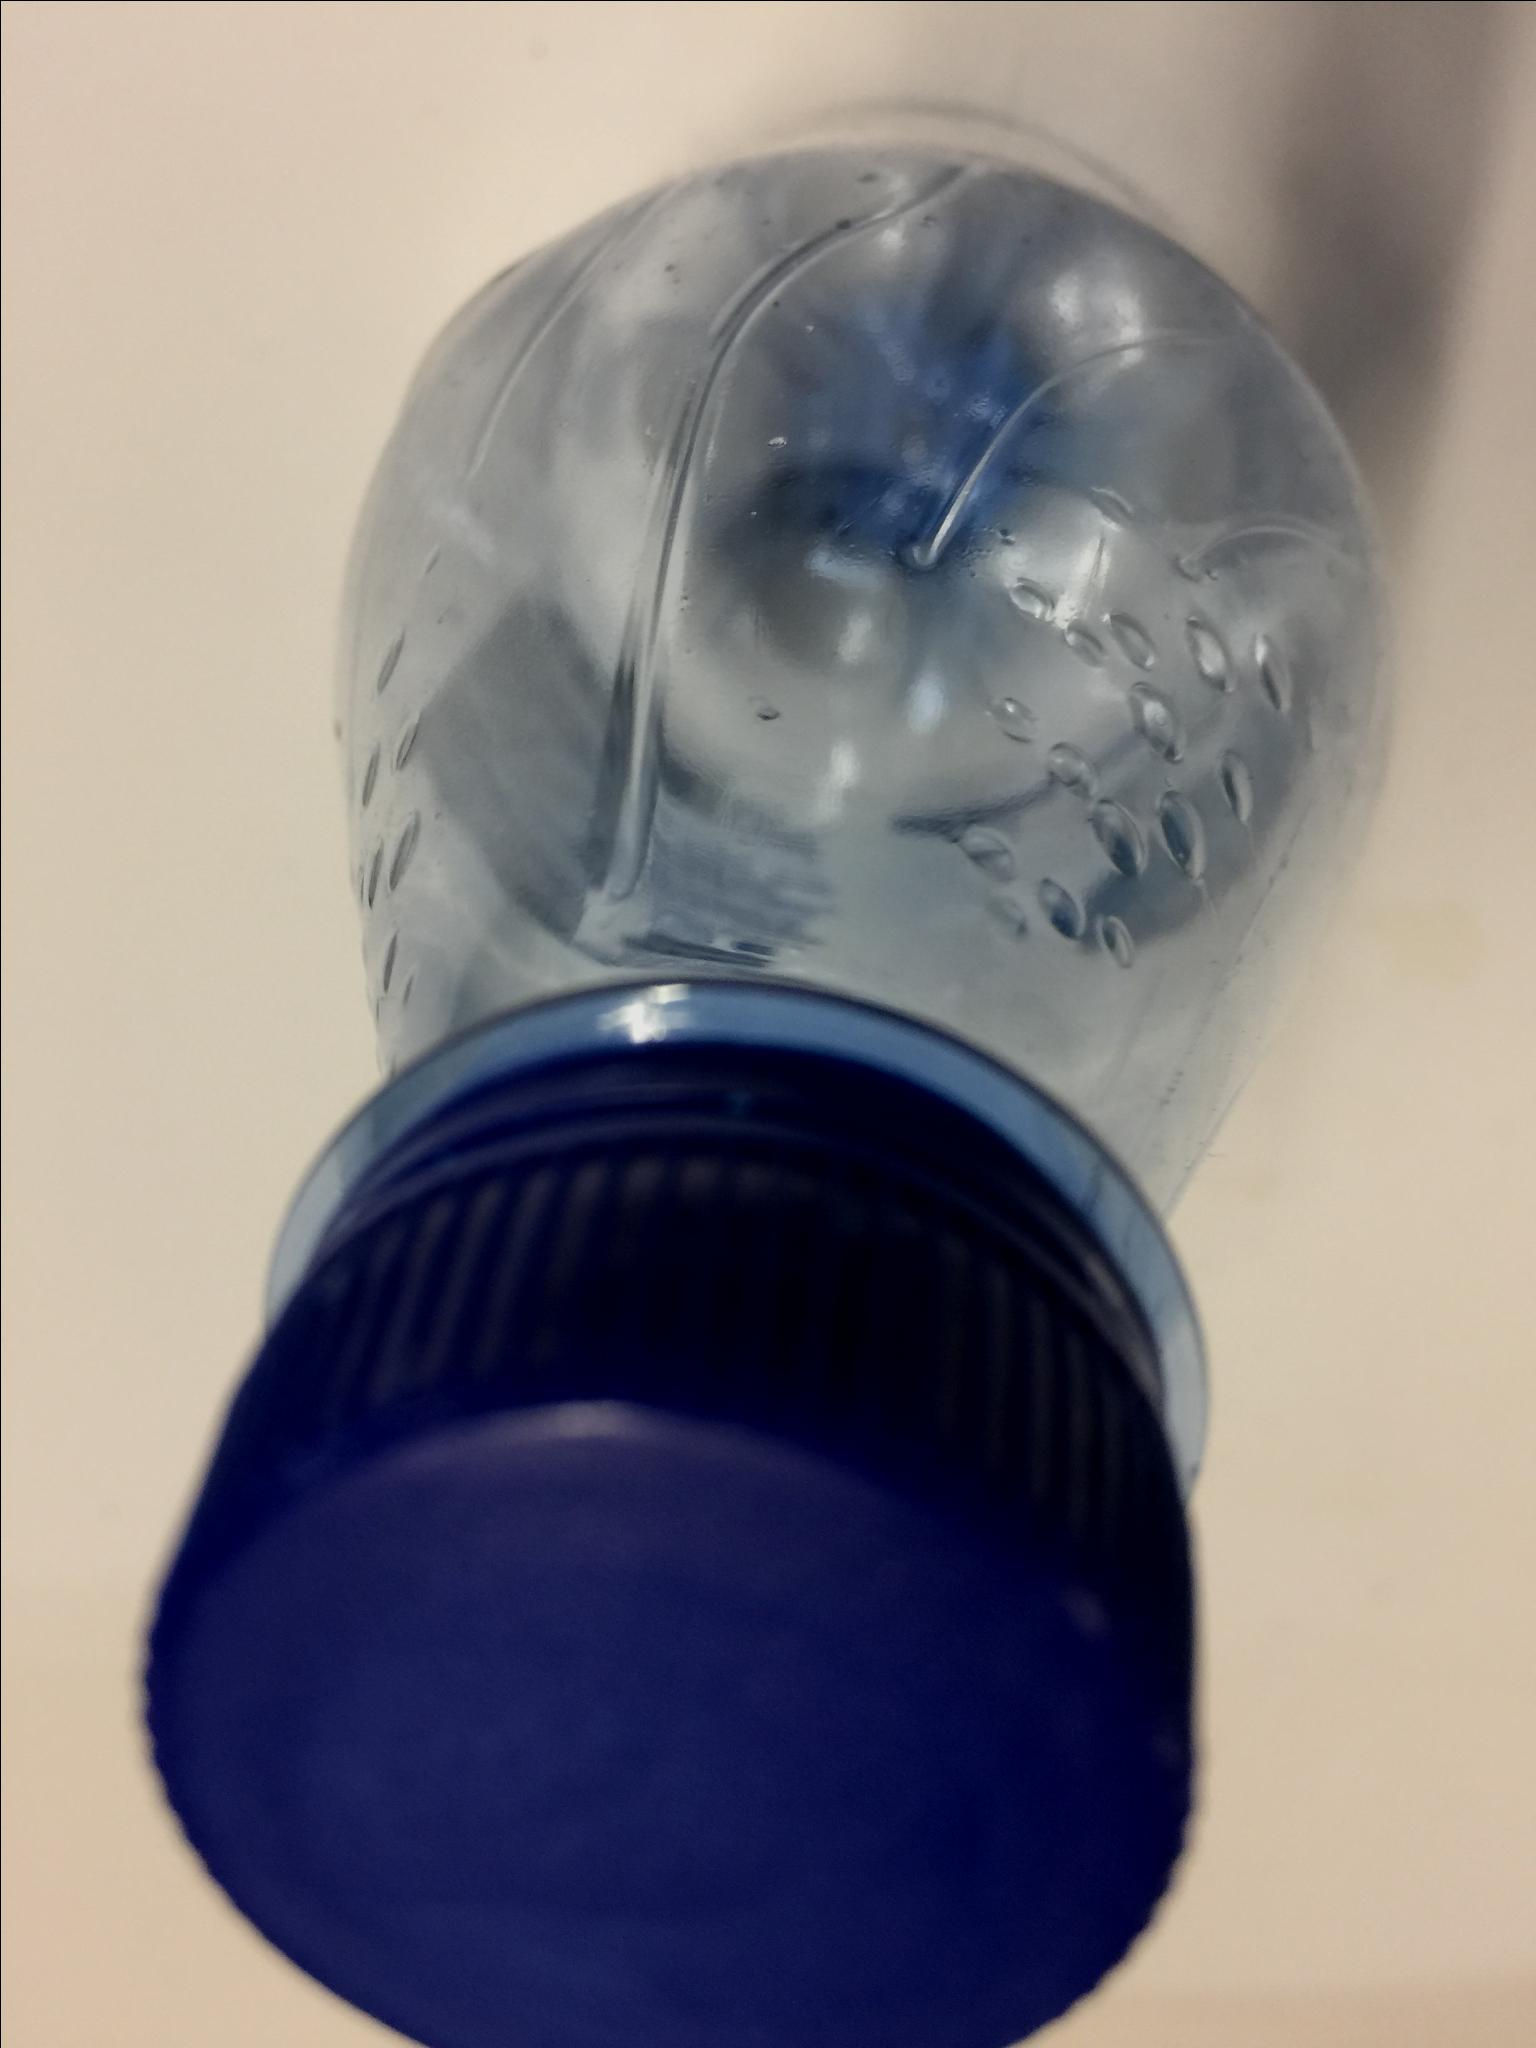Plastic: (110, 124, 1384, 2046)
